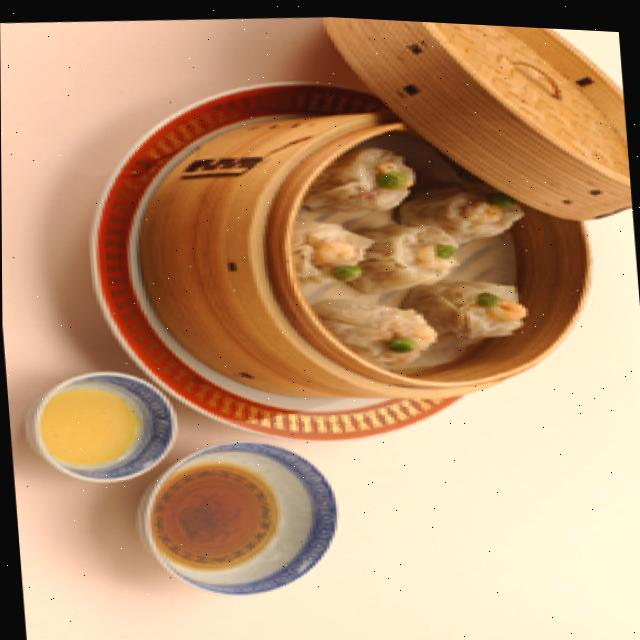带馅早点: (80, 202, 489, 596)
